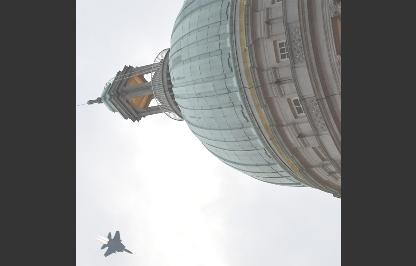F117: (99, 230, 132, 256)
